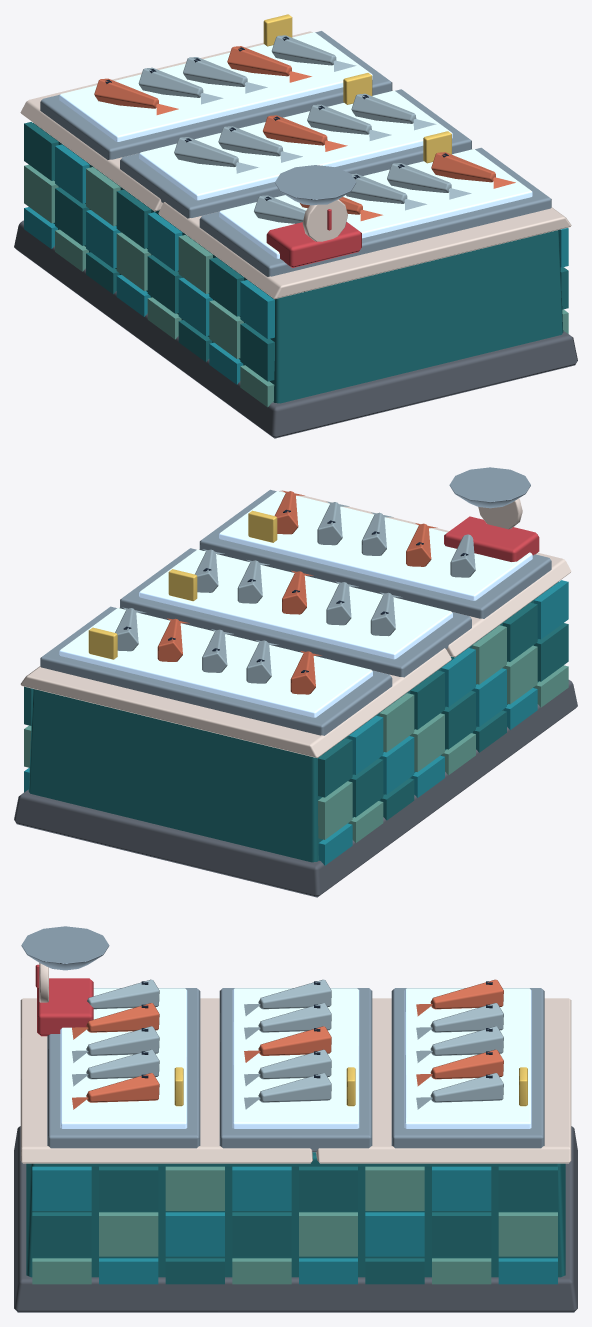
The model's file is fish_counter.glb.
3 views of the same model, one above another, from view 1: azimuth 30°, elevation 25°; view 2: azimuth 150°, elevation 25°; view 3: azimuth 270°, elevation 25° (orthographic). The views are drawn at different scales.
Visible parts, largest first — view 1: fish_counter; view 2: fish_counter; view 3: fish_counter.
Boxes of the visible parts, x1=… form: fish_counter: x1=14, y1=14, x2=577, y2=438; fish_counter: x1=14, y1=467, x2=577, y2=897; fish_counter: x1=14, y1=926, x2=577, y2=1312.
Bounding box in the file's own units: 2.35 × 1.65 × 3.47.
